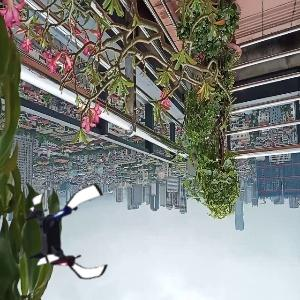drone: (18, 185, 122, 289)
